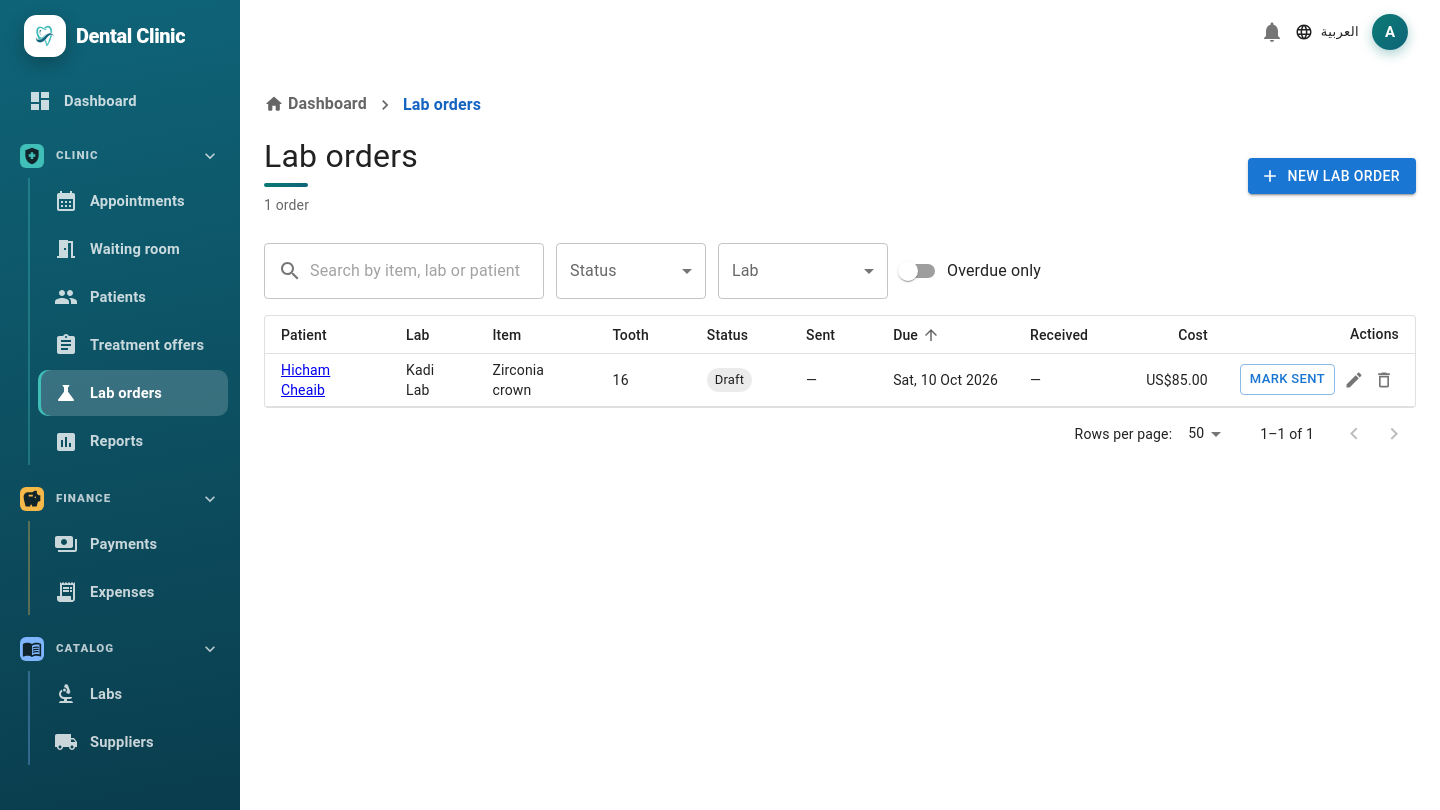
Test case: lab orders › moves an order along with one button per step
Click the button "Mark sent" at [1287, 380], box [1240,364,1335,395]
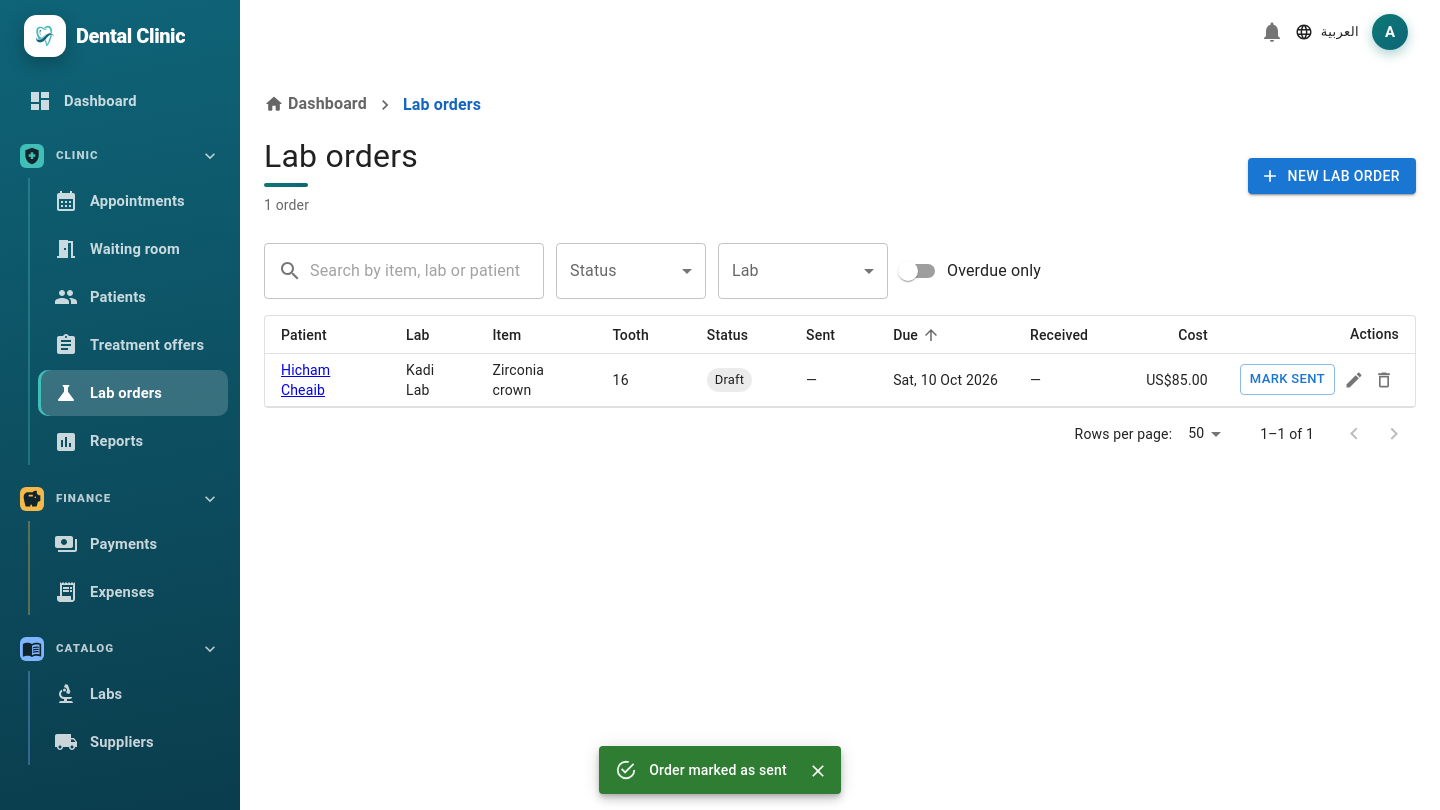
Now the text "Order marked as sent" is shown, box [649,762,787,778]
